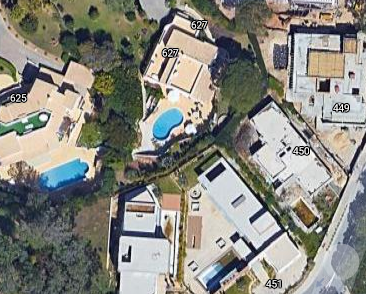pool: (38, 165, 92, 184), (154, 105, 182, 140)
